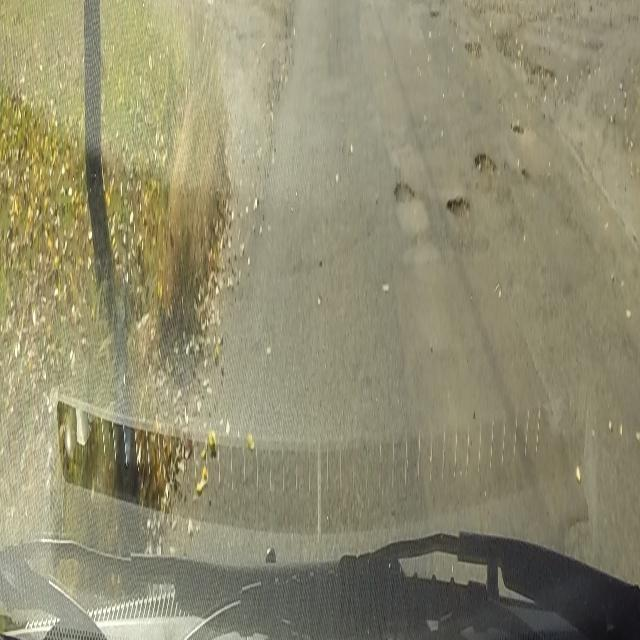pothole: (444, 189, 470, 225), (529, 61, 558, 90), (392, 173, 415, 209), (473, 149, 498, 178), (462, 33, 482, 57), (509, 117, 524, 138), (428, 6, 441, 22)
